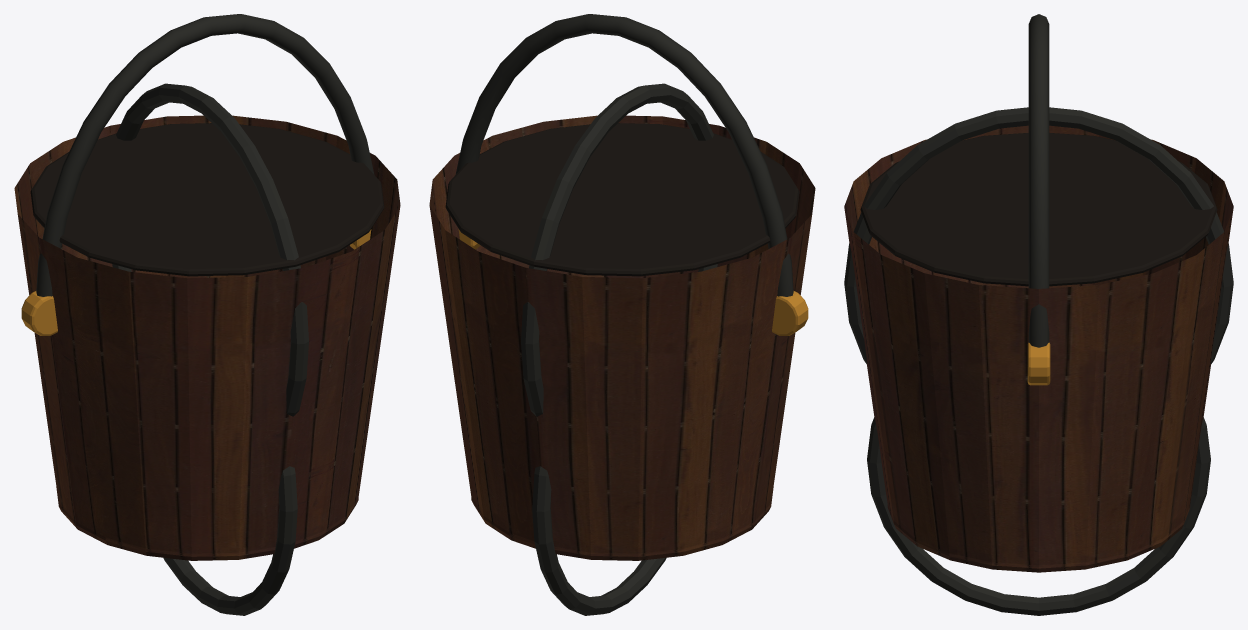
The model's file is stave-bucket.glb.
3 renders of one model, left to right at view 1: azimuth 30°, elevation 25°; view 2: azimuth 150°, elevation 25°; view 3: azimuth 270°, elevation 25°, orthographic.
Parts seen in each view (by area): view 1: BucketStaves, BucketDarkInterior, BucketHandle, BucketHoop_0.12, BucketHoop_-0.18, BucketBottom, BucketHandlePin_-1; view 2: BucketStaves, BucketDarkInterior, BucketHandle, BucketHoop_0.12, BucketHoop_-0.18, BucketBottom, BucketHandlePin_-1; view 3: BucketStaves, BucketDarkInterior, BucketHoop_0.12, BucketHoop_-0.18, BucketHandle, BucketBottom, BucketHandlePin_1.
Part boxes in pixels (left/top/right/bottom): BucketStaves: left=14, top=115, right=400, bottom=553; BucketDarkInterior: left=30, top=123, right=384, bottom=276; BucketHandle: left=36, top=14, right=374, bottom=296; BucketHoop_0.12: left=112, top=83, right=308, bottom=416; BucketHoop_-0.18: left=163, top=466, right=297, bottom=615; BucketBottom: left=56, top=487, right=358, bottom=560; BucketHandlePin_-1: left=21, top=291, right=57, bottom=335; BucketStaves: left=429, top=115, right=815, bottom=553; BucketDarkInterior: left=445, top=123, right=799, bottom=276; BucketHandle: left=455, top=14, right=793, bottom=296; BucketHoop_0.12: left=521, top=83, right=717, bottom=416; BucketHoop_-0.18: left=532, top=466, right=666, bottom=615; BucketBottom: left=471, top=487, right=773, bottom=560; BucketHandlePin_-1: left=772, top=291, right=808, bottom=335; BucketStaves: left=844, top=125, right=1233, bottom=565; BucketDarkInterior: left=860, top=133, right=1217, bottom=286; BucketHoop_0.12: left=844, top=107, right=1233, bottom=364; BucketHoop_-0.18: left=867, top=417, right=1210, bottom=615; BucketHandle: left=1028, top=14, right=1049, bottom=347; BucketBottom: left=887, top=505, right=1190, bottom=572; BucketHandlePin_1: left=1027, top=342, right=1050, bottom=385.
Size of the model in its own units: 0.6482 by 1 by 0.6.
4 materials, 1 textured.
